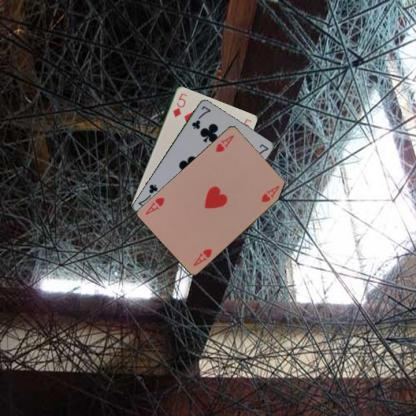5d: (170, 90, 188, 119)
7c: (189, 103, 212, 130)
Ah: (191, 245, 213, 268), (212, 132, 235, 153)
